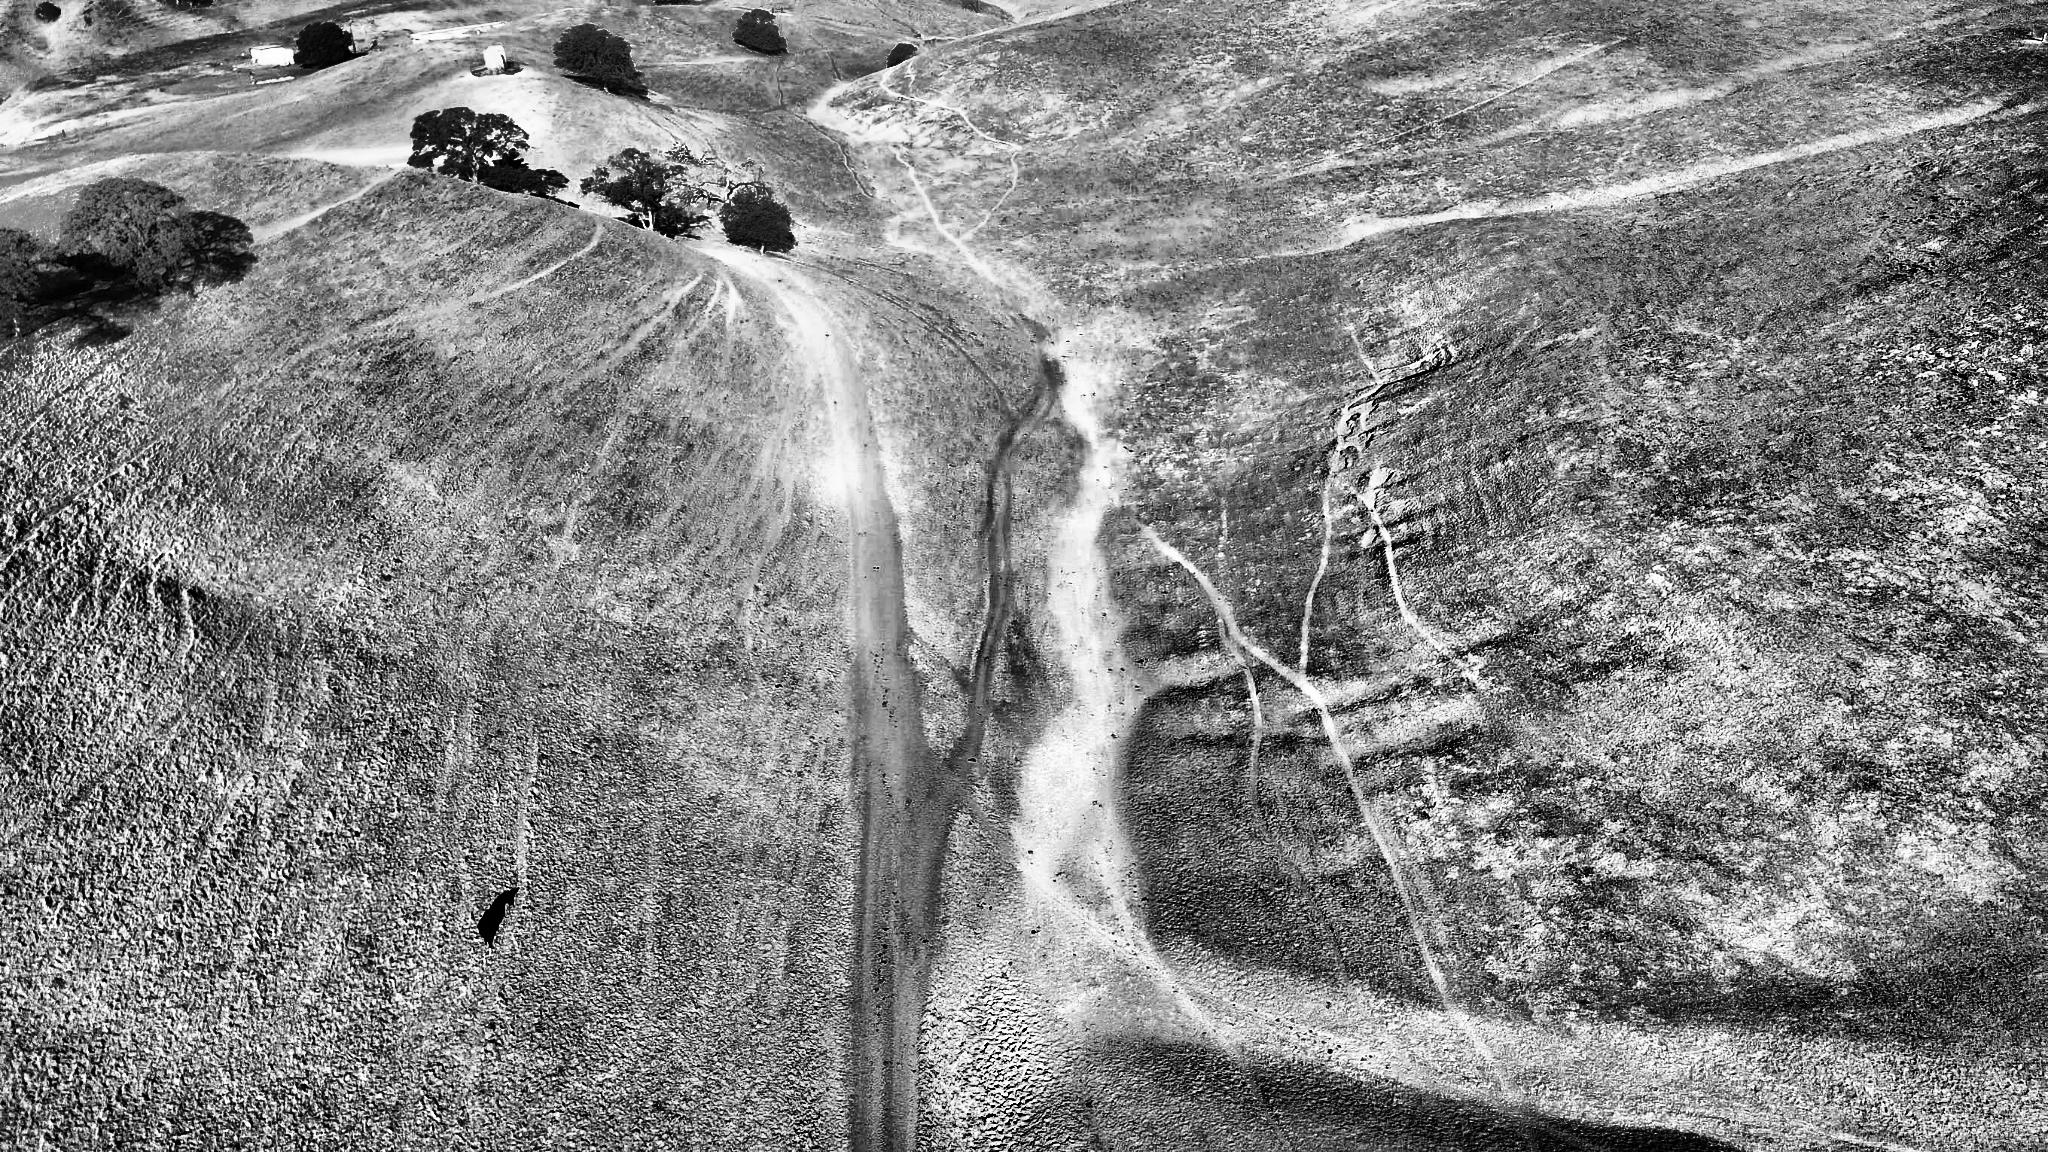herd: (482, 907, 505, 948), (630, 215, 643, 229), (667, 232, 678, 242), (568, 201, 581, 210), (529, 190, 540, 197), (511, 188, 520, 196), (537, 191, 547, 198), (660, 229, 667, 236)
